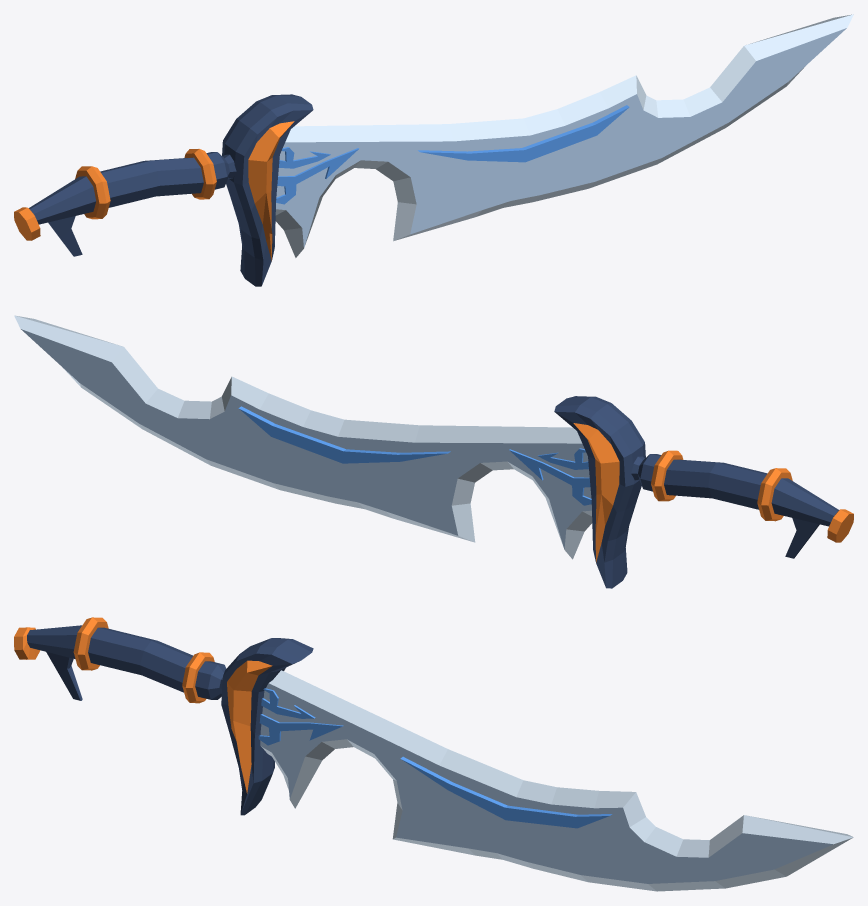
Rendered from Sword 1.fbx.
3 views of the same model, one above another, from view 1: azimuth 30°, elevation 25°; view 2: azimuth 150°, elevation 25°; view 3: azimuth 330°, elevation 25° (orthographic).
Visible parts, largest first — view 1: Sword 1; view 2: Sword 1; view 3: Sword 1.
Boxes of the visible parts, <box> form: Sword 1: <box>14,14,853,286</box>; Sword 1: <box>14,315,853,588</box>; Sword 1: <box>14,617,853,891</box>.
Bounding box in the file's own units: 848 × 170 × 58.73.
